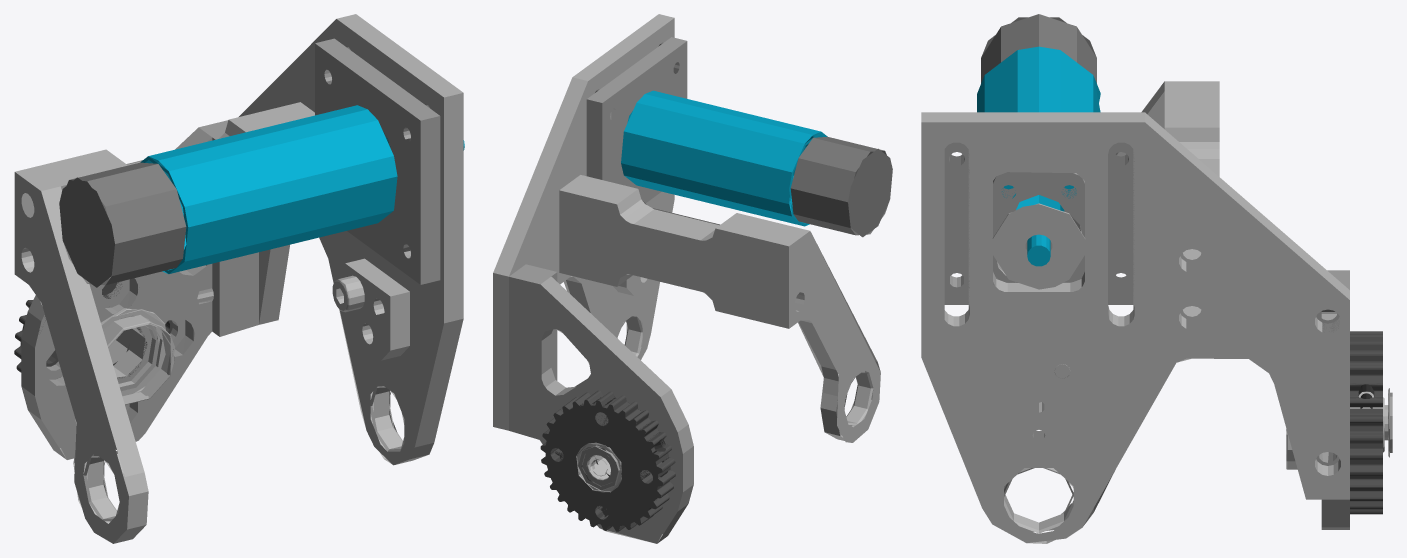
Rendered from EyeL_1_joint_visu.dae.
3 views of the same model, side by side, from view 1: azimuth 30°, elevation 25°; view 2: azimuth 150°, elevation 25°; view 3: azimuth 270°, elevation 25° (orthographic). The views are drawn at different scales.
Visible parts, largest first — view 1: Visualization_EyeL1; view 2: Visualization_EyeL1; view 3: Visualization_EyeL1.
Boxes of the visible parts, box(x1,y1,x2,y2) form: Visualization_EyeL1: box(14, 14, 464, 543); Visualization_EyeL1: box(493, 14, 892, 543); Visualization_EyeL1: box(921, 14, 1392, 543).
Bounding box in the file's own units: 0.0569 × 0.0601 × 0.067.
